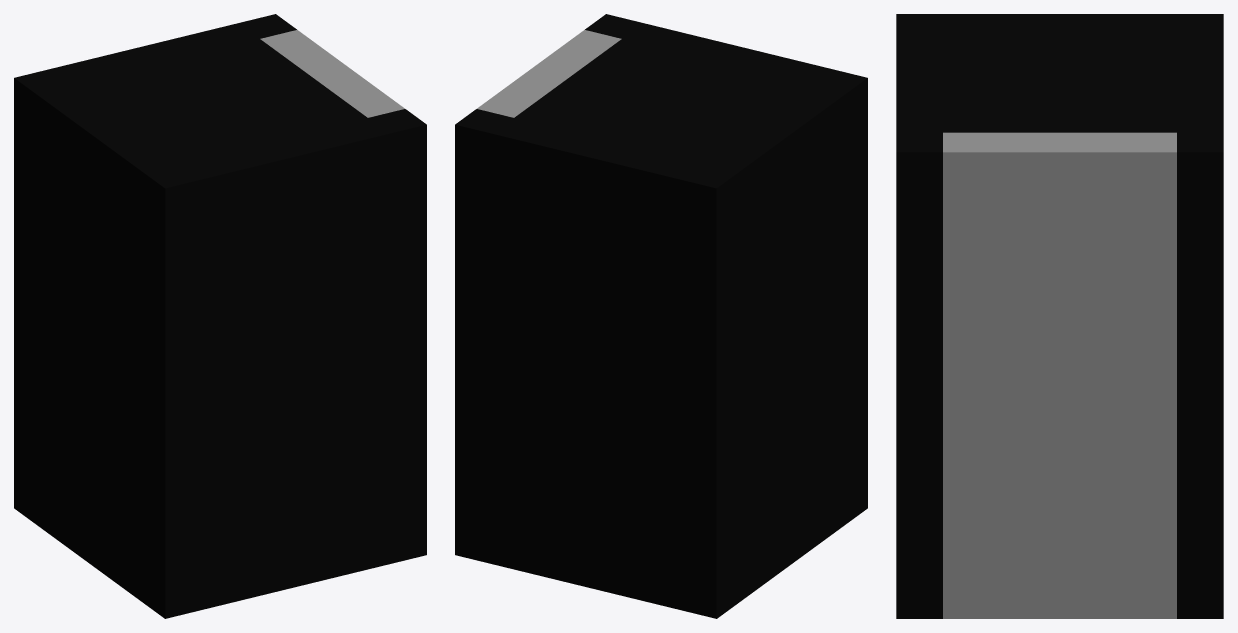
Rendered from speaker2.obj.
The picture shows the model from 3 angles, left to right: view 1: azimuth 30°, elevation 25°; view 2: azimuth 150°, elevation 25°; view 3: azimuth 270°, elevation 25°; orthographic projection. The views are drawn at different scales.
Bounding box in the file's own units: 7 × 11 × 7.
